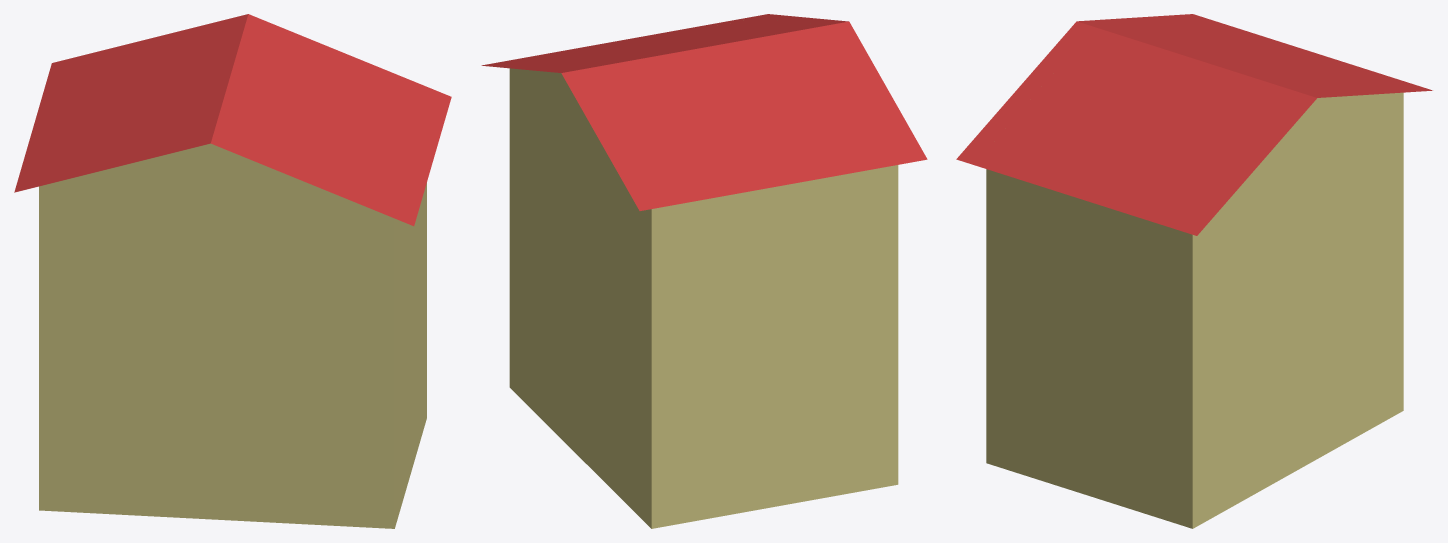
3 views of the same model, side by side, from view 1: azimuth 30°, elevation 25°; view 2: azimuth 150°, elevation 25°; view 3: azimuth 270°, elevation 25° (orthographic). The views are drawn at different scales.
Visible parts, largest first — view 1: group_5, group_3, group_4; view 2: group_5, group_3, group_4; view 3: group_5, group_3, group_4.
Part boxes in pixels (<box>): group_5: <box>39,143,426,528</box>; group_3: <box>14,14,451,225</box>; group_4: <box>210,14,413,226</box>; group_5: <box>509,68,898,528</box>; group_3: <box>481,14,927,210</box>; group_4: <box>561,14,848,72</box>; group_5: <box>986,92,1403,528</box>; group_3: <box>957,14,1432,235</box>; group_4: <box>956,21,1316,172</box>.
Size of the model in its own units: 11.45 by 11.03 by 9.59.
